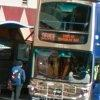Bus: (28, 0, 98, 100)
